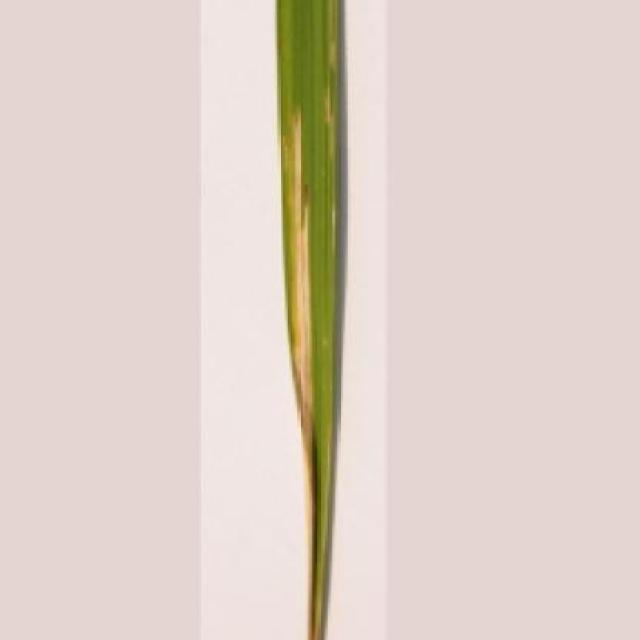Brown_Spot: (270, 0, 352, 640)
